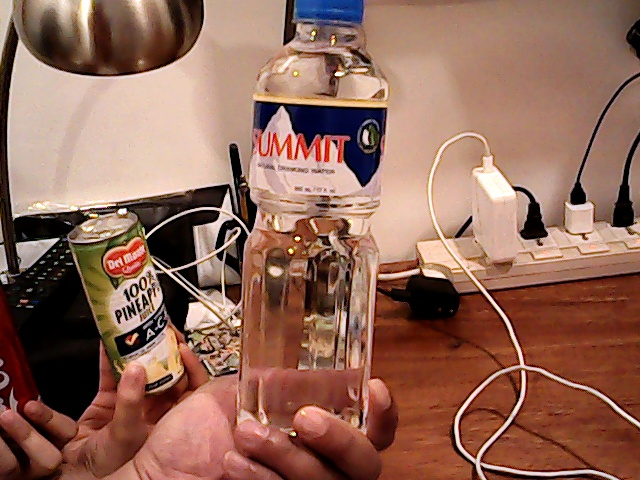Pine Juice: (62, 198, 202, 405)
Summit Water: (231, 1, 399, 428)
